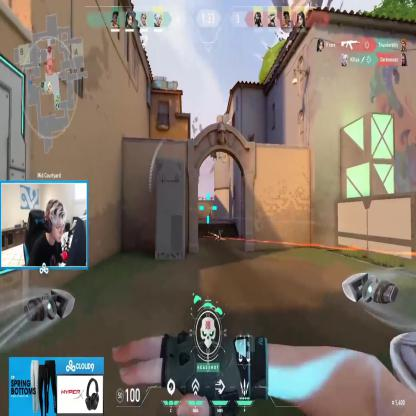enemy: (208, 204, 212, 220)
enemy_head: (210, 204, 211, 208)
